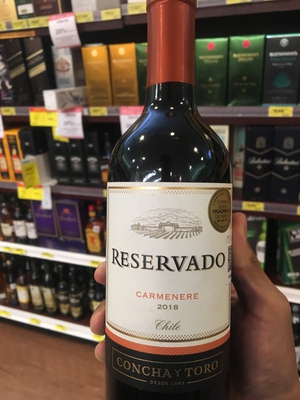reservado carmenere: (104, 5, 237, 400)
